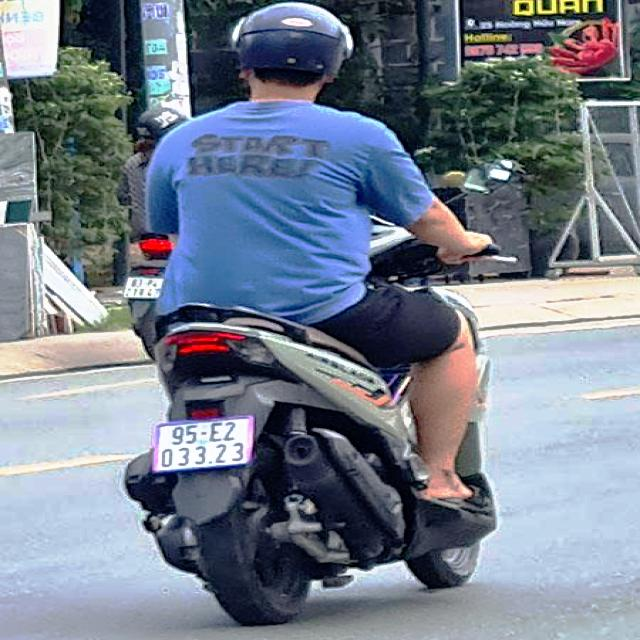license_plate: (159, 413, 251, 473)
